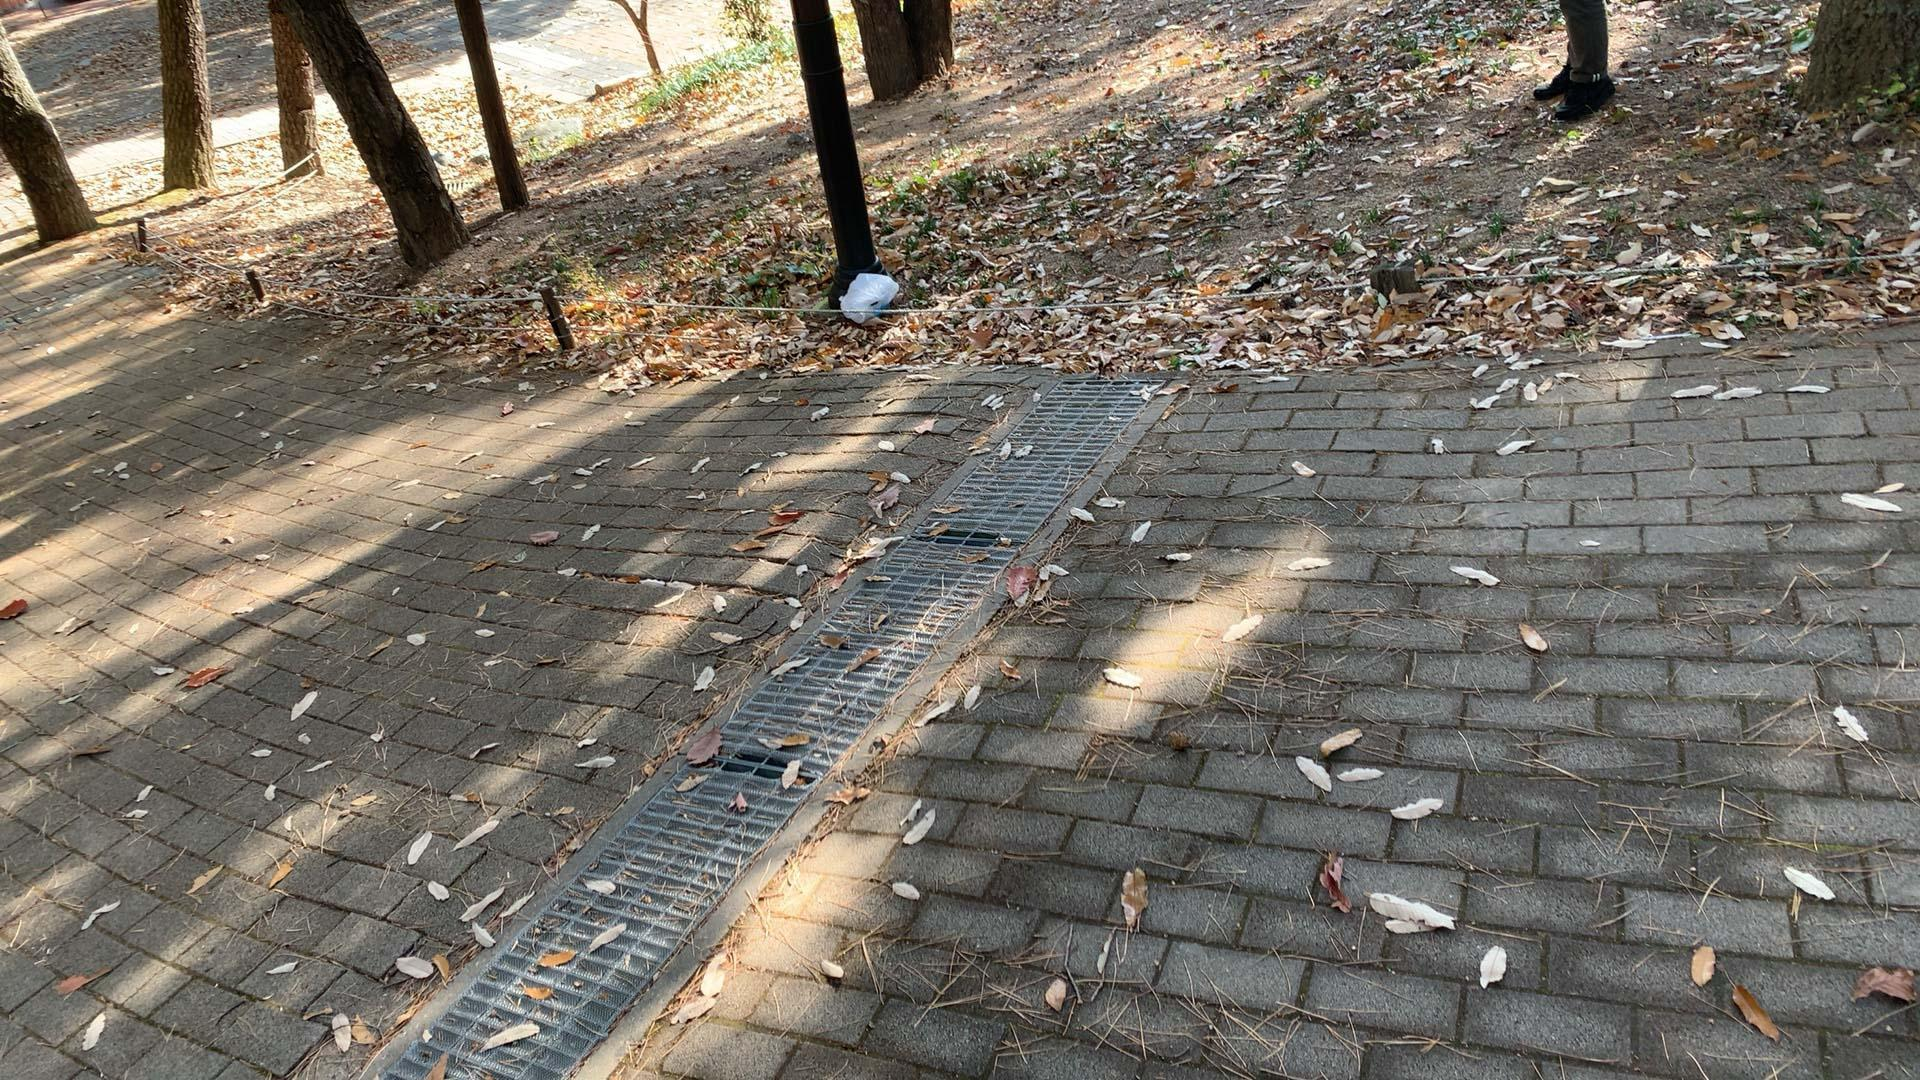white_bag: (835, 268, 900, 327)
